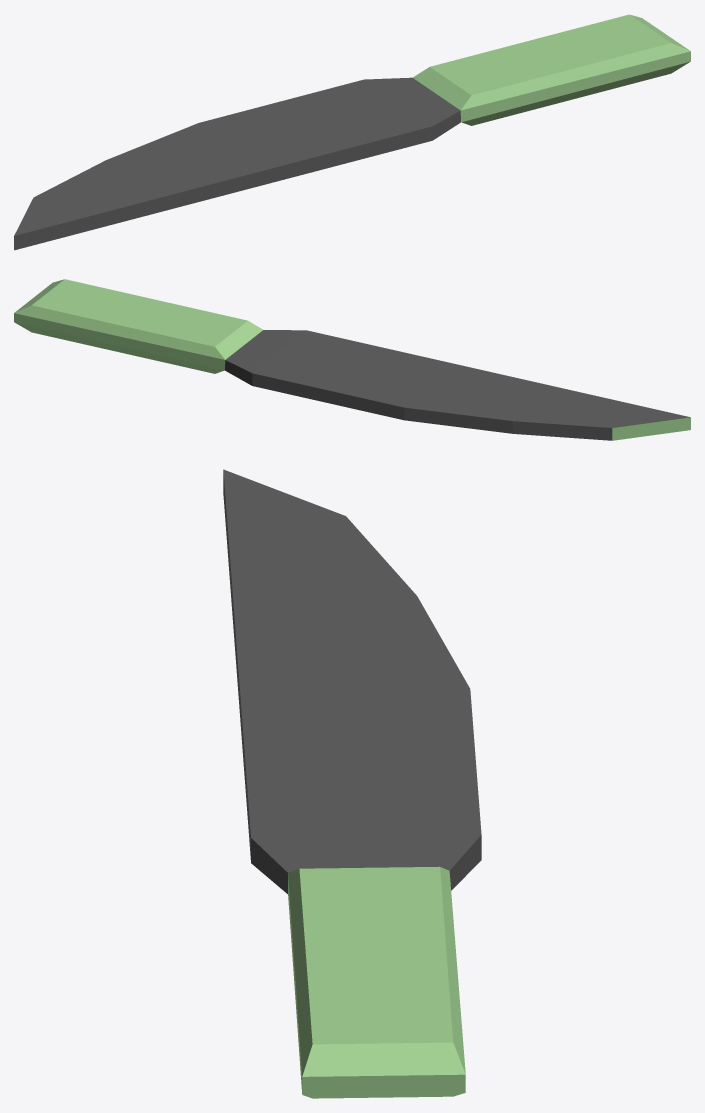
File: Knife.fbx
The picture shows the model from 3 angles, top to bottom: view 1: azimuth 30°, elevation 25°; view 2: azimuth 150°, elevation 25°; view 3: azimuth 270°, elevation 25°; orthographic projection. The views are drawn at different scales.
Parts seen in each view (by area): view 1: Knife; view 2: Knife; view 3: Knife.
Part boxes in pixels (x1=…): Knife: x1=14, y1=14, x2=690, y2=250; Knife: x1=14, y1=279, x2=690, y2=440; Knife: x1=223, y1=469, x2=481, y2=1098.
Bounding box in the file's own units: 130 × 5.44 × 23.5.
